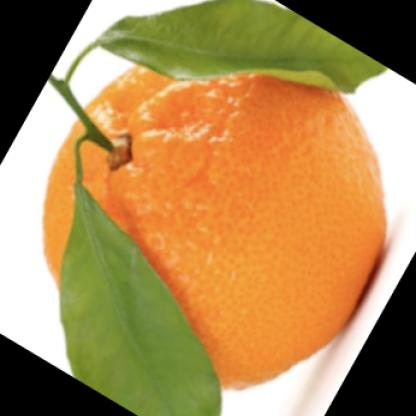fresh: (48, 48, 388, 396)
